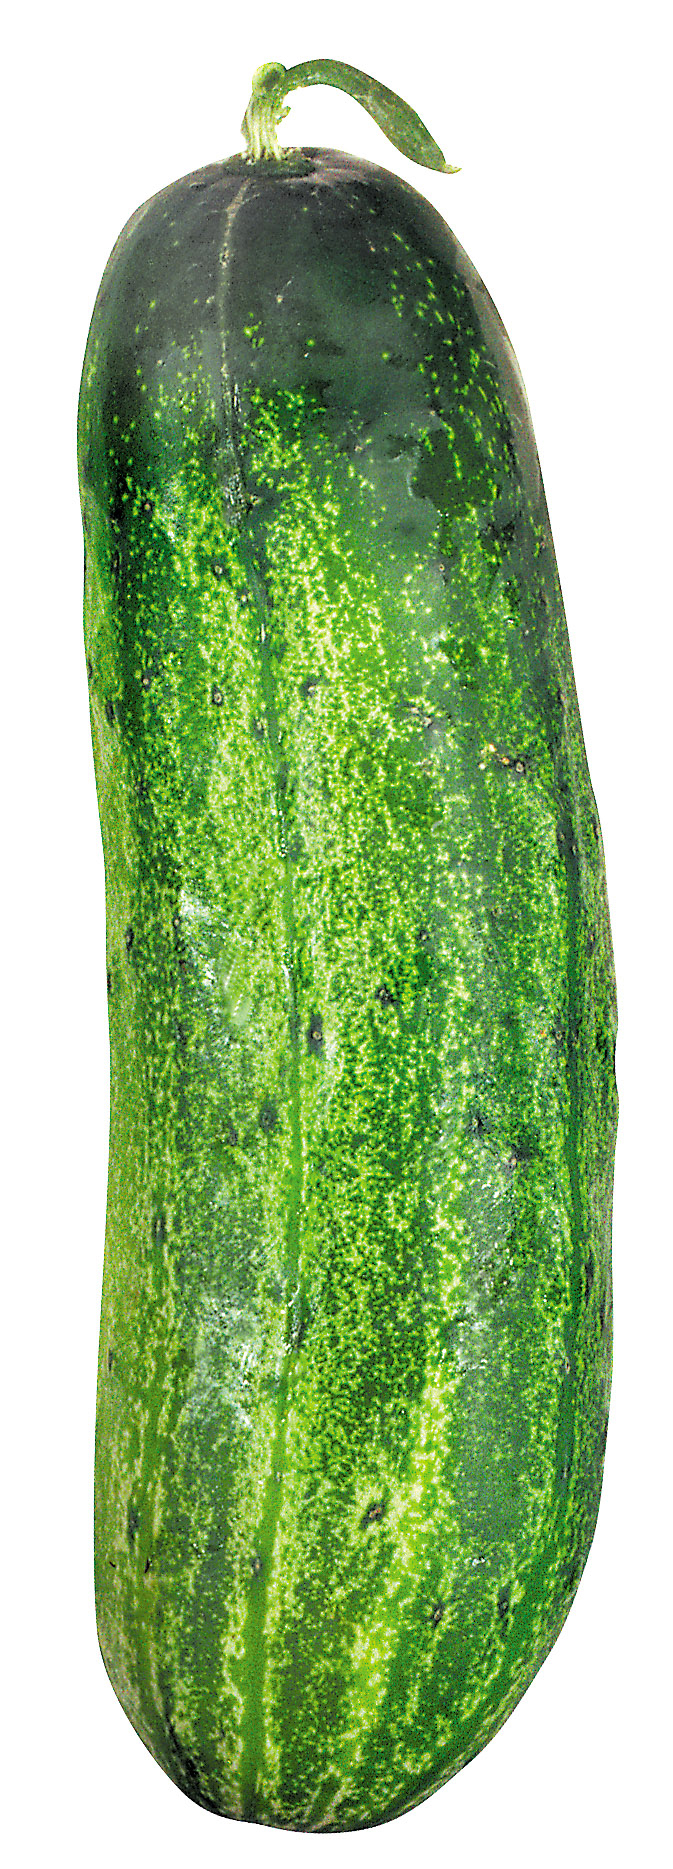cucumber: (66, 56, 627, 1845)
